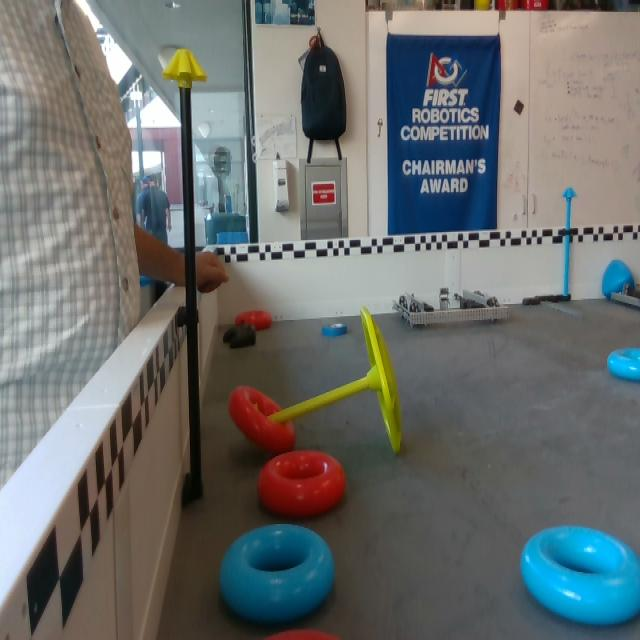Blue-Ring: (217, 523, 335, 623), (520, 523, 639, 621), (607, 347, 639, 379)
Mobile-Goal: (247, 302, 405, 454)
Red-Ring: (257, 451, 347, 516), (228, 384, 298, 457), (234, 310, 274, 331)
Yellow-Stake-Head: (163, 49, 207, 82)
zblue-Stake-Head: (562, 187, 576, 198)
